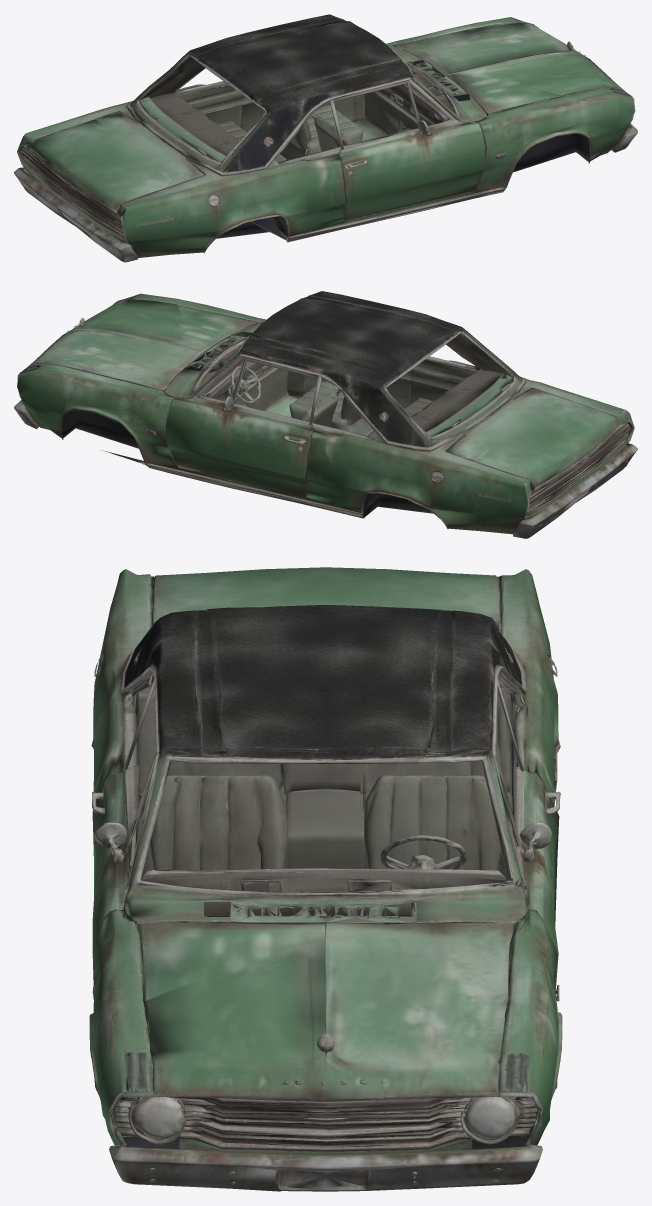
Rendered from val_green.glb.
3 views of the same model, one above another, from view 1: azimuth 30°, elevation 25°; view 2: azimuth 150°, elevation 25°; view 3: azimuth 270°, elevation 25° (orthographic). The views are drawn at different scales.
Parts seen in each view (by area): view 1: val_green; view 2: val_green; view 3: val_green.
Part boxes in pixels (x1,y1,x2,y2): val_green: [14, 14, 637, 262]; val_green: [14, 291, 637, 538]; val_green: [89, 567, 562, 1191].
Size of the model in its own units: 4.95 by 1.23 by 1.91.
1 material, 1 textured.
